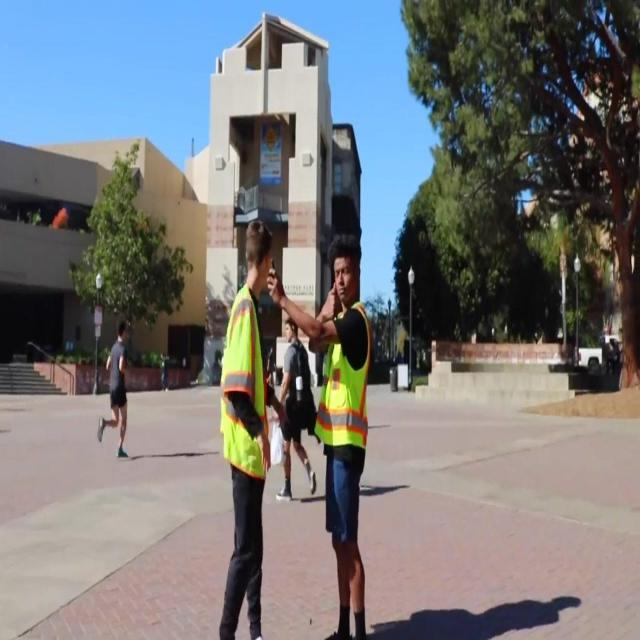Vest: (220, 283, 270, 478), (313, 303, 369, 452)
